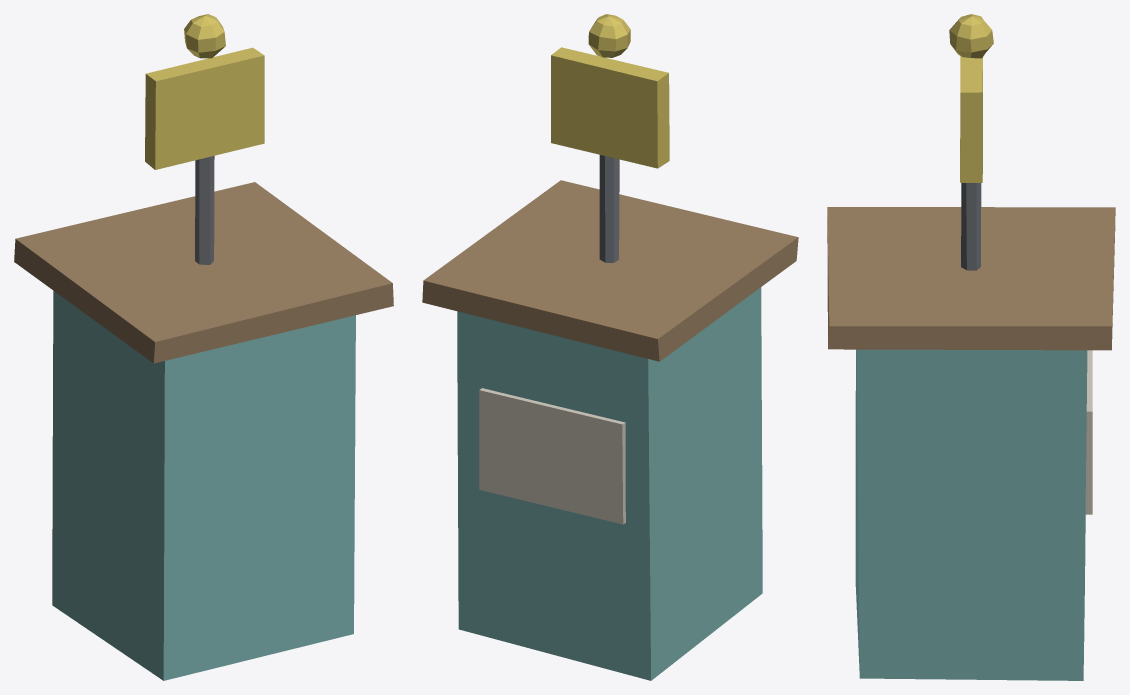
The model's file is infokiosk.fbx.
The picture shows the model from 3 angles, left to right: view 1: azimuth 30°, elevation 25°; view 2: azimuth 150°, elevation 25°; view 3: azimuth 270°, elevation 25°; orthographic projection. The views are drawn at different scales.
Parts seen in each view (by area): view 1: InfoKiosk; view 2: InfoKiosk; view 3: InfoKiosk.
Part boxes in pixels (x1,y1,x2,y2): InfoKiosk: [14, 14, 393, 680]; InfoKiosk: [422, 14, 798, 680]; InfoKiosk: [827, 14, 1115, 680].
Size of the model in its own units: 2 by 4.81 by 2.02.
